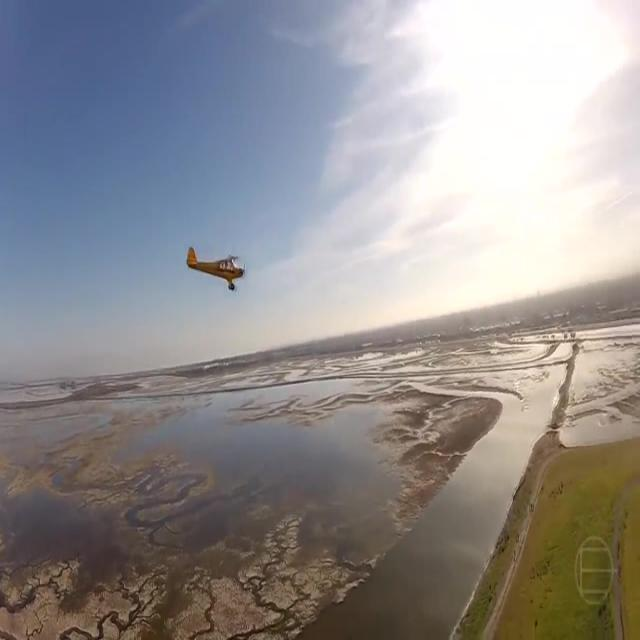iha: (185, 247, 246, 291)
